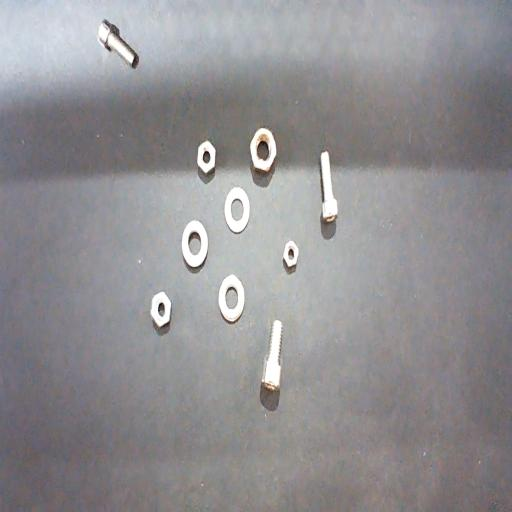nut: (249, 127, 276, 176), (150, 291, 172, 331), (196, 140, 216, 176), (282, 240, 299, 269)
screw: (97, 18, 137, 68), (262, 320, 282, 392), (319, 150, 338, 223)
washer: (218, 274, 245, 324), (181, 220, 208, 269), (224, 186, 250, 234)
